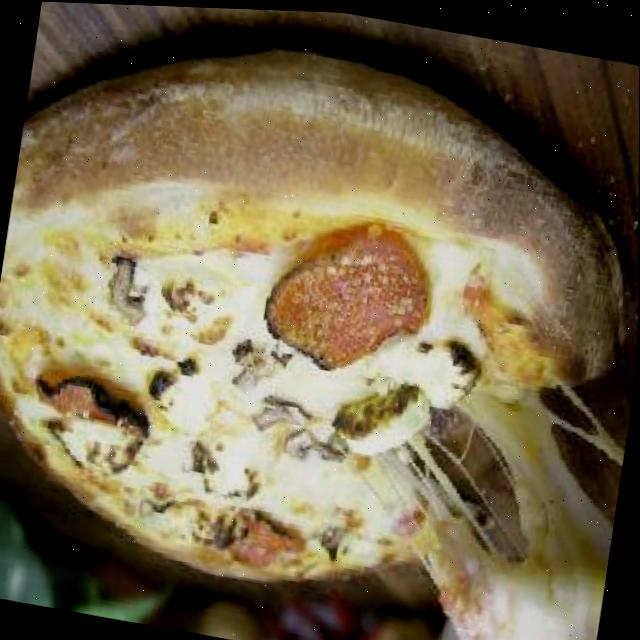汉堡快餐: (0, 0, 640, 637)
